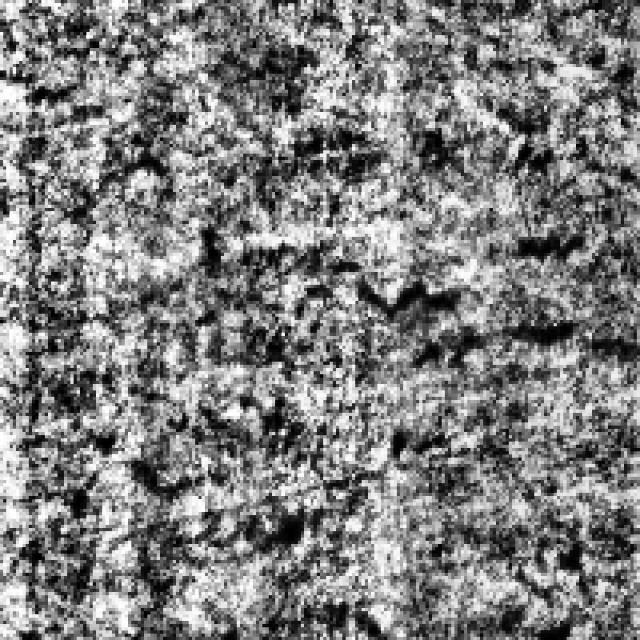Pitted_Surface: (356, 218, 630, 477)
